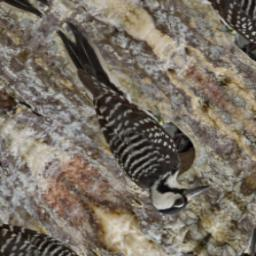Woodpecker: (14, 14, 229, 229)
